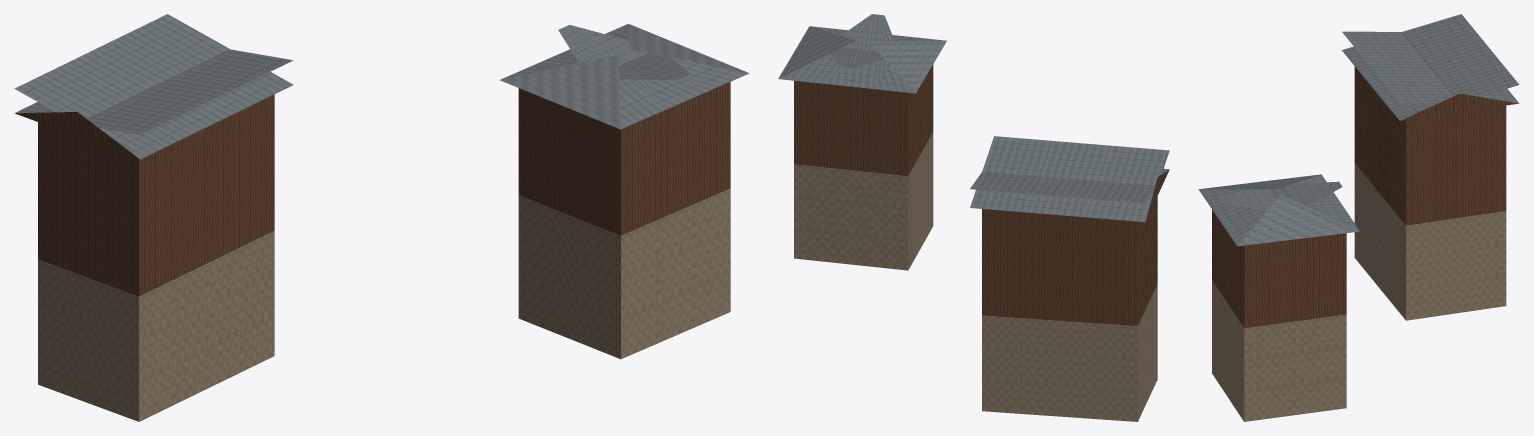
Rendered from bld_c11_18_431.gltf.
3 views of the same model, side by side, from view 1: azimuth 30°, elevation 25°; view 2: azimuth 150°, elevation 25°; view 3: azimuth 270°, elevation 25° (orthographic). The views are drawn at different scales.
Parts seen in each view (by area): view 1: bld_c11_18_431; view 2: bld_c11_18_431; view 3: bld_c11_18_431.
Part boxes in pixels (x1,y1,x2,y2): bld_c11_18_431: (14, 14, 749, 421); bld_c11_18_431: (778, 14, 1169, 421); bld_c11_18_431: (1198, 14, 1519, 421).
Bounding box in the file's own units: 25.01 × 12.2 × 15.61.
4 materials, 4 textured.
